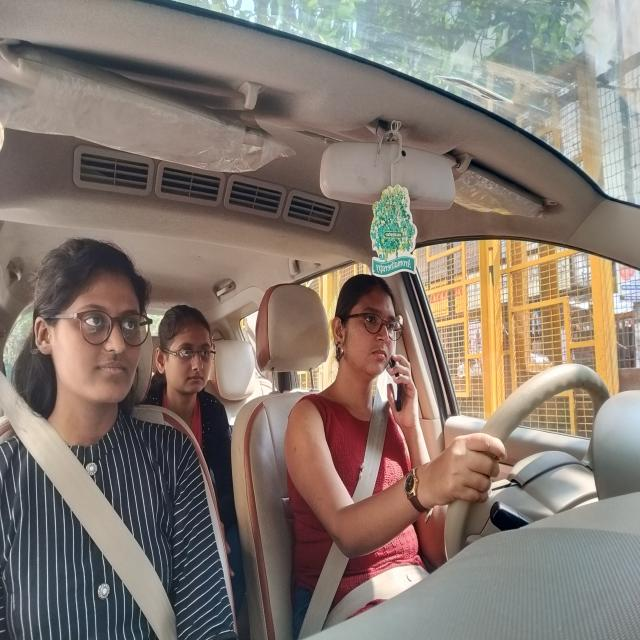mobile: (388, 344, 419, 449)
person: (11, 218, 156, 431), (327, 264, 405, 394), (160, 296, 227, 422)
